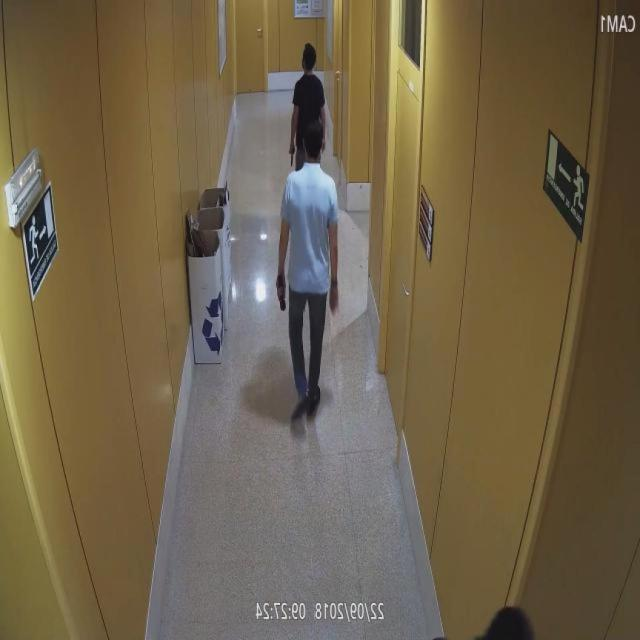pistol: (288, 138, 296, 166)
